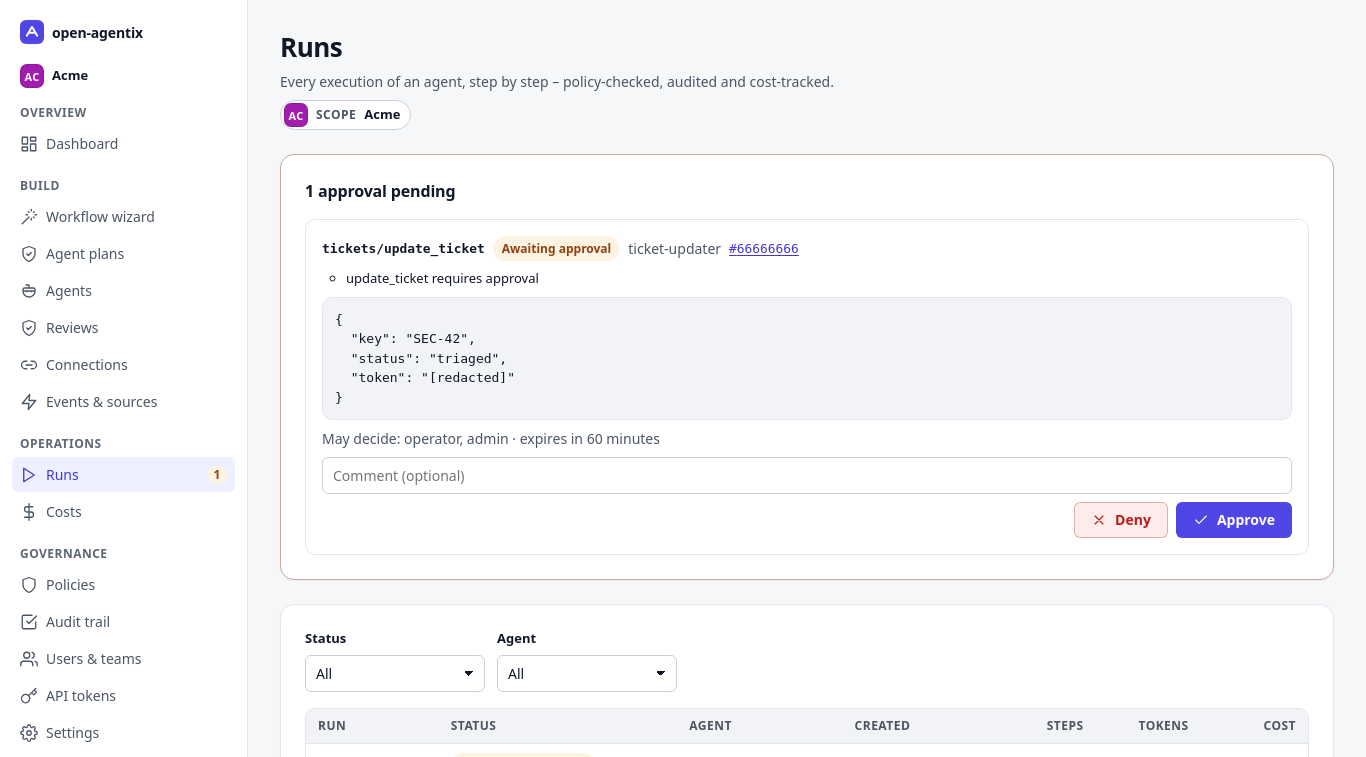
Scenario: runs list › rolls back a failed denial
This screenshot has width=1366, height=757.
Click the button "Deny" at (1121, 520), box [1074,502,1168,538]
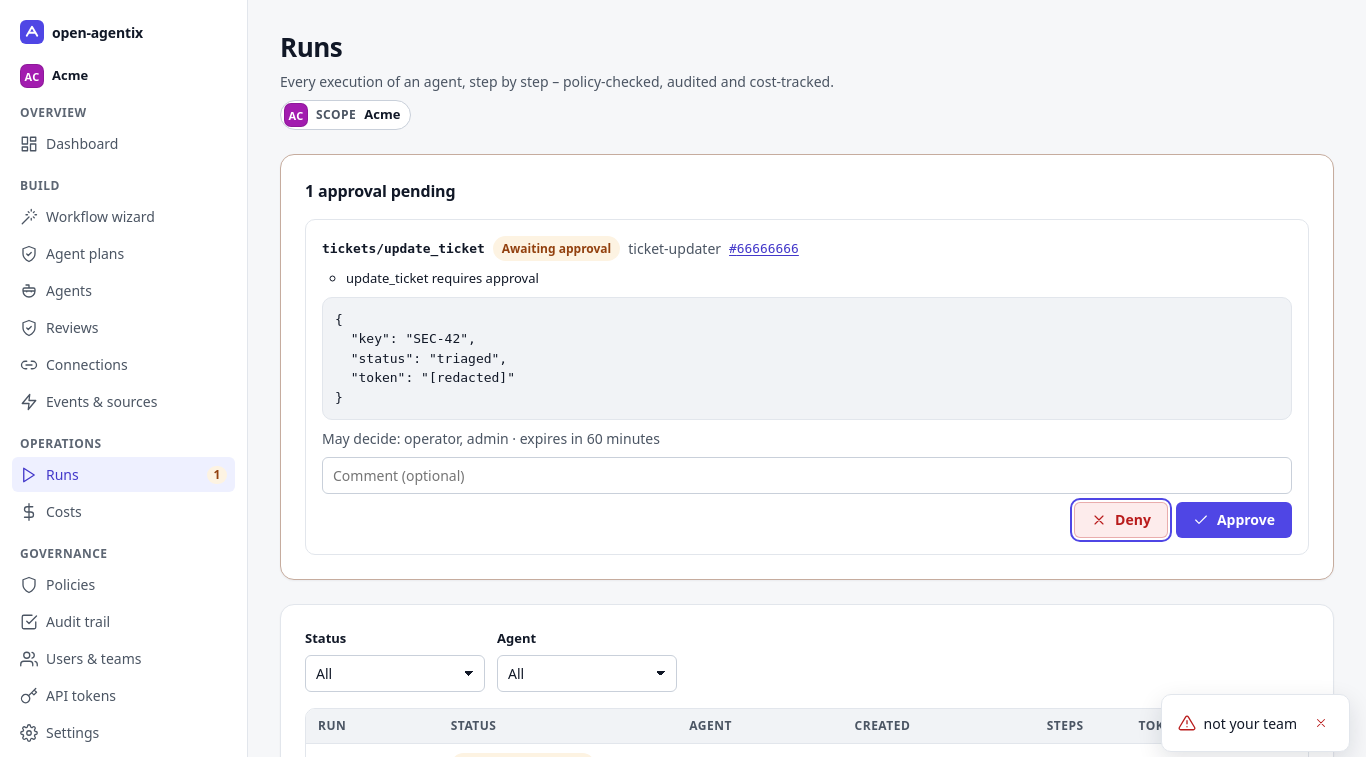
Check: the element "1 approval pending" is shown, box [280,154,1334,580]
Check: the text "not your team" is shown, box [1204,712,1297,734]
